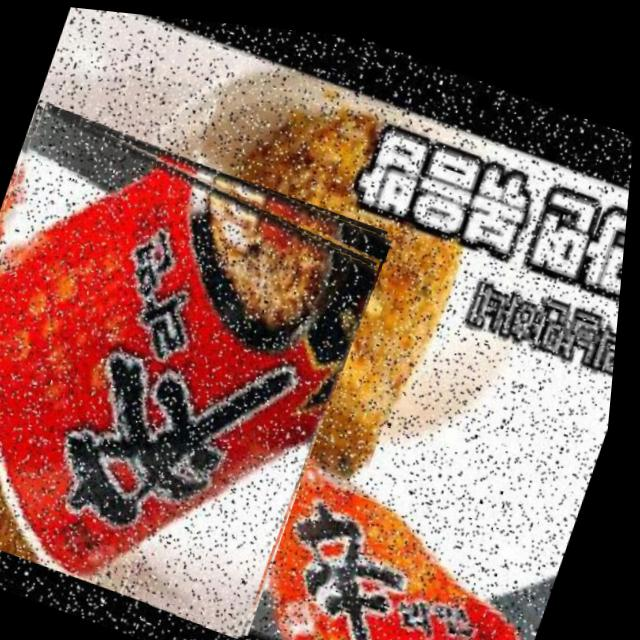Miscellaneous: (0, 96, 401, 640)
